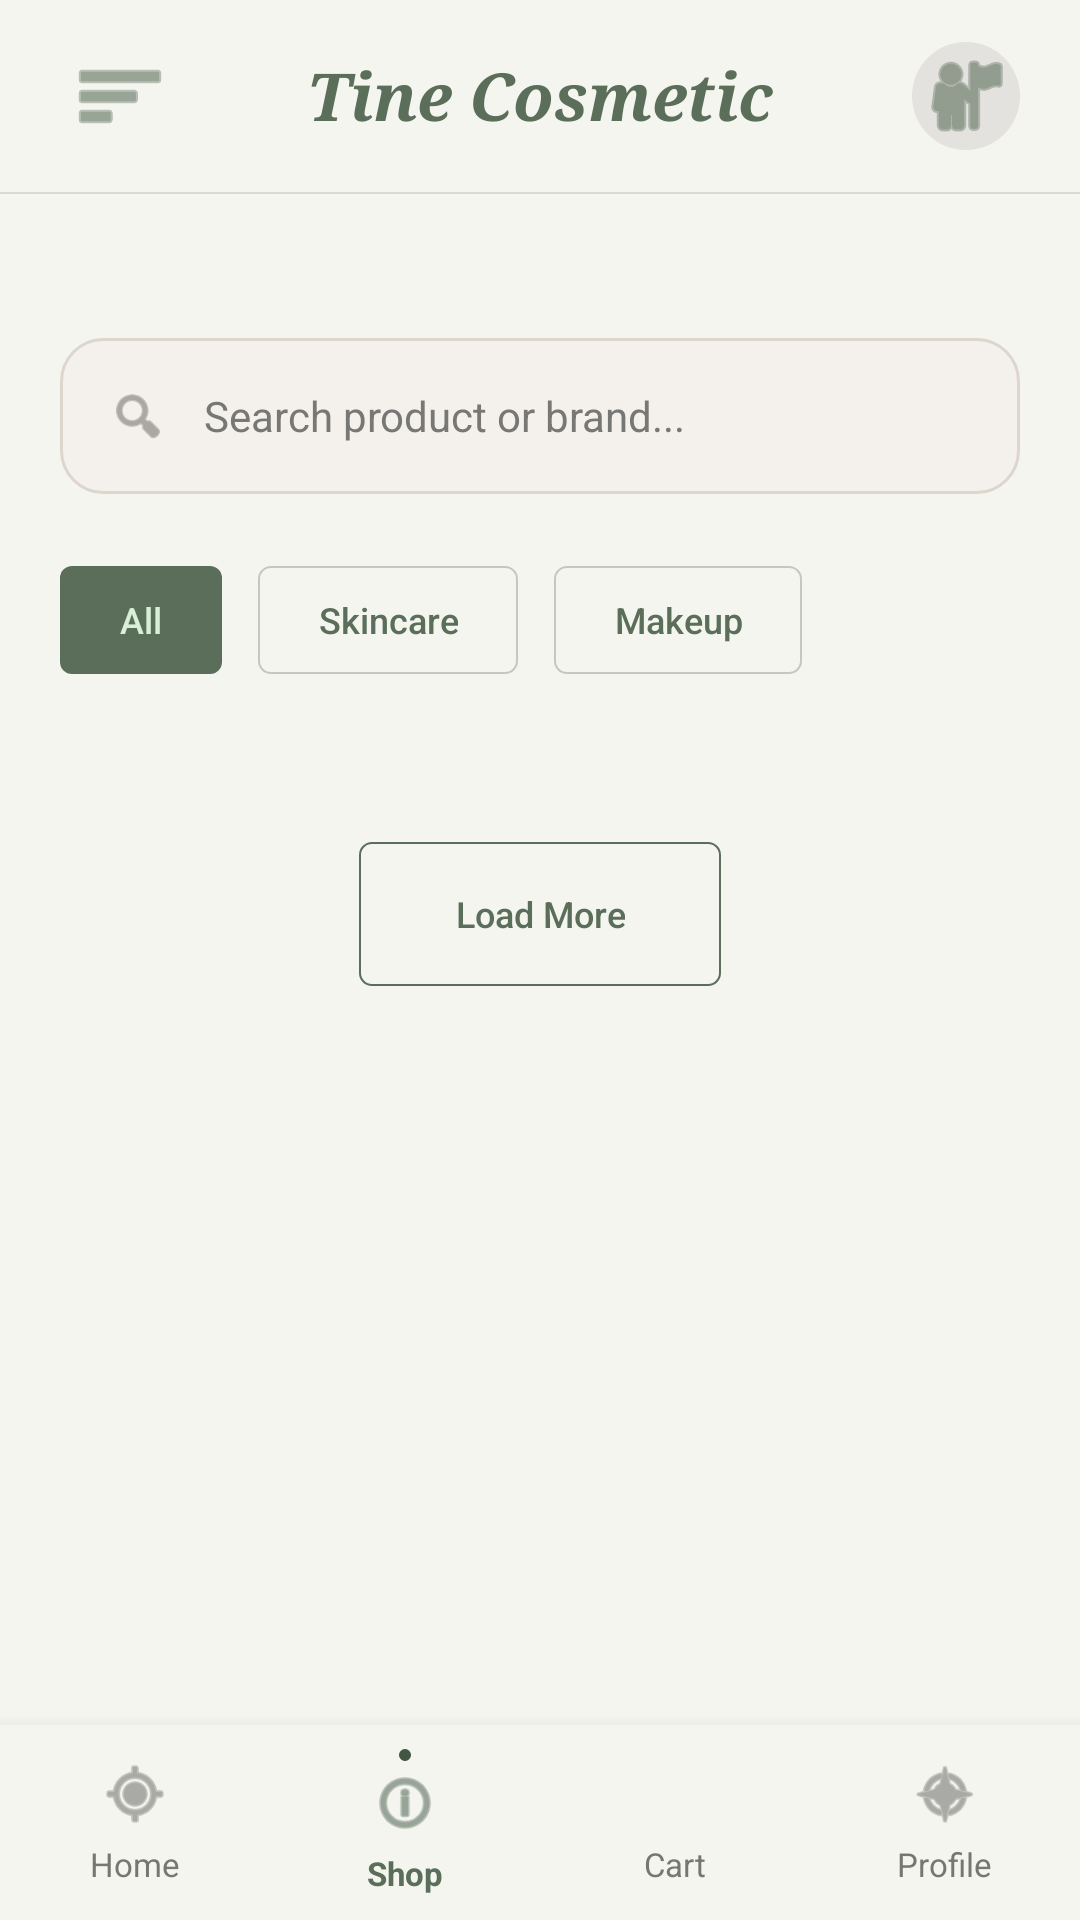

Locate icon controls on the screen. Image size 1080w x 1920h, boxes as BBox(x1, y1, x2, y2).
compass: BBox(916, 1766, 973, 1823)
info details: BBox(379, 1777, 431, 1829)
mylocation: BBox(106, 1765, 164, 1823)
myplaces: BBox(931, 60, 1003, 132)
sort by size: BBox(79, 70, 161, 123)
